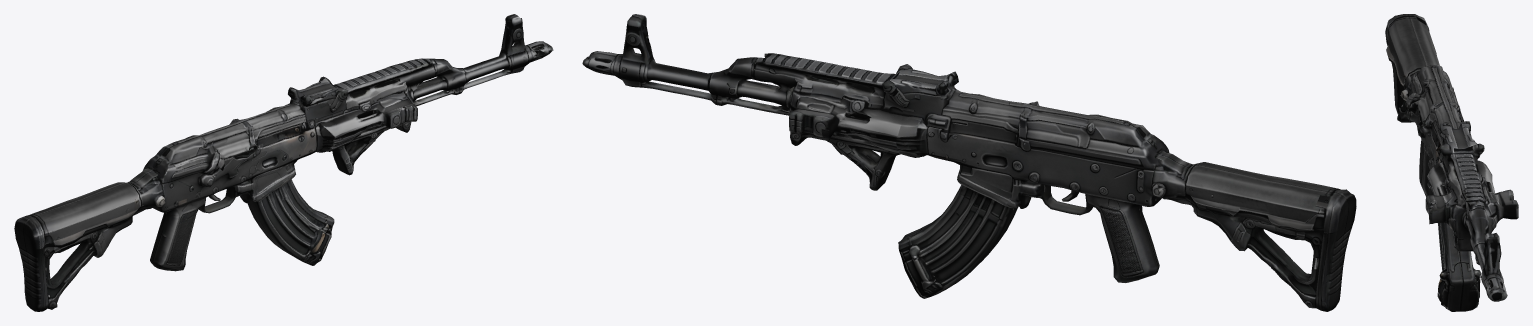
The model's file is tripo_convert_4028374b-c938-4cb8-94f2-0e033a5c29f1.fbx.
The picture shows the model from 3 angles, left to right: view 1: azimuth 30°, elevation 25°; view 2: azimuth 150°, elevation 25°; view 3: azimuth 270°, elevation 25°; orthographic projection. The views are drawn at different scales.
Parts seen in each view (by area): view 1: tripo_node_4028374b; view 2: tripo_node_4028374b; view 3: tripo_node_4028374b.
Part boxes in pixels (x1,y1,x2,y2): tripo_node_4028374b: (14,14,553,311); tripo_node_4028374b: (582,14,1356,311); tripo_node_4028374b: (1385,14,1518,311).
Size of the model in its own units: 97.95 by 19.06 by 29.85.
1 material, 1 textured.
